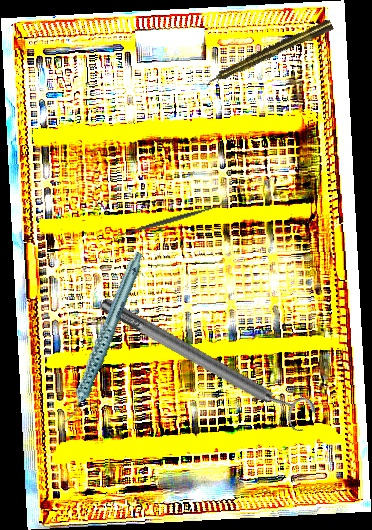Fixation Ring: (93, 284, 320, 438)
Handpiece: (29, 250, 176, 426), (202, 18, 335, 89)
Spatula Surgical: (111, 199, 226, 243)
